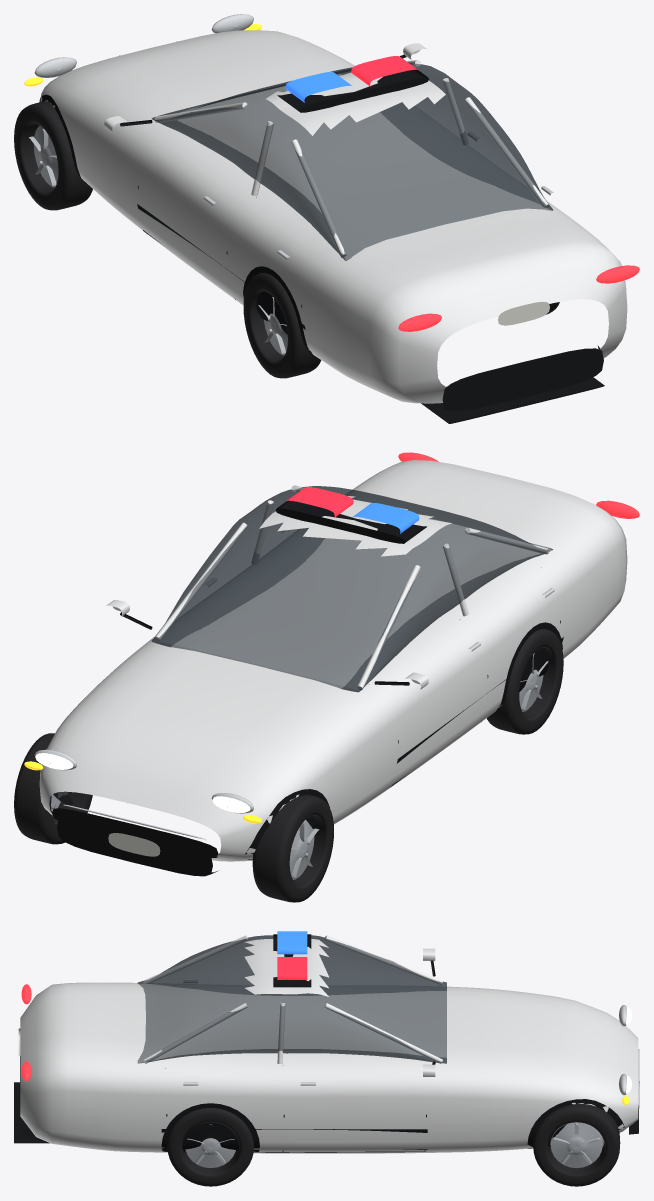
The model's file is police-car.b99e2fdb.glb.
3 renders of one model, top to bottom at view 1: azimuth 30°, elevation 25°; view 2: azimuth 150°, elevation 25°; view 3: azimuth 270°, elevation 25°, orthographic. The views are drawn at different scales.
Visible parts, largest first — view 1: chassis, wheel_fl, wheel_rl; view 2: chassis, wheel_fl, wheel_rl, wheel_fr; view 3: chassis, wheel_fr, wheel_rr.
Part boxes in pixels (x1,y1,x2,y2): chassis: [24, 14, 639, 423]; wheel_fl: [14, 101, 92, 210]; wheel_rl: [243, 272, 321, 378]; chassis: [24, 452, 639, 876]; wheel_fl: [252, 795, 333, 902]; wheel_rl: [486, 629, 563, 734]; wheel_fr: [14, 733, 92, 844]; chassis: [14, 931, 639, 1153]; wheel_fr: [533, 1104, 620, 1186]; wheel_rr: [167, 1108, 254, 1186].
Size of the model in its own units: 2.31 by 1.61 by 4.96.
